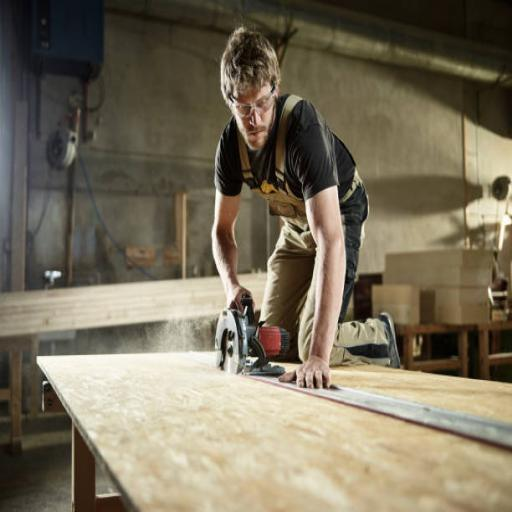No Gloves: (262, 330, 352, 418), (212, 267, 270, 338)
No Helmet: (201, 19, 310, 161)
jacket: (216, 91, 378, 271)
safety glasses: (214, 75, 298, 124)
shoes: (360, 297, 417, 380)
